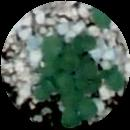Basil: (64, 97, 99, 128), (57, 54, 84, 84), (57, 81, 83, 106), (81, 58, 100, 91), (40, 54, 60, 82), (105, 67, 128, 88), (67, 36, 98, 51), (44, 36, 61, 60), (34, 80, 54, 99)
